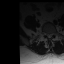CCS_normal: (48, 31, 50, 40)
LFS_normal: (52, 30, 54, 37)
LLS_normal: (50, 31, 52, 38)
RFS_normal: (44, 29, 46, 37)
RLS_normal: (46, 31, 48, 39)
